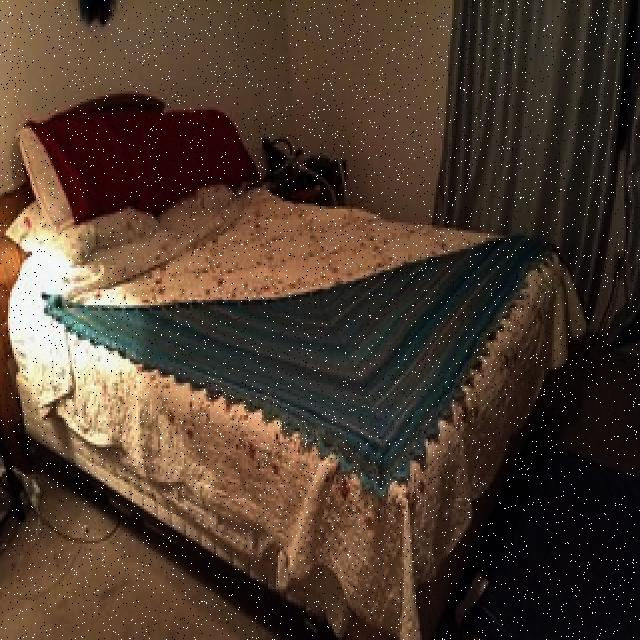bed: (10, 90, 586, 614)
